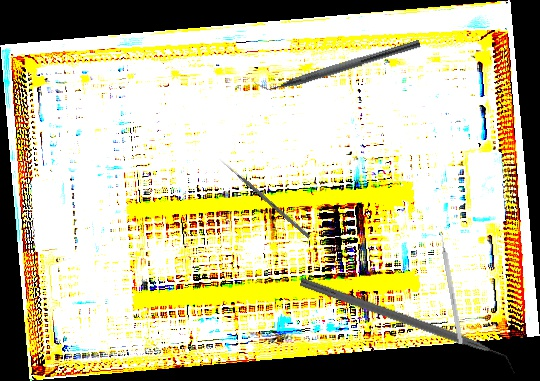Chopper: (295, 276, 521, 378), (253, 28, 421, 100)
Hook Surgical: (438, 230, 464, 345)
Pusher: (218, 157, 311, 239)
